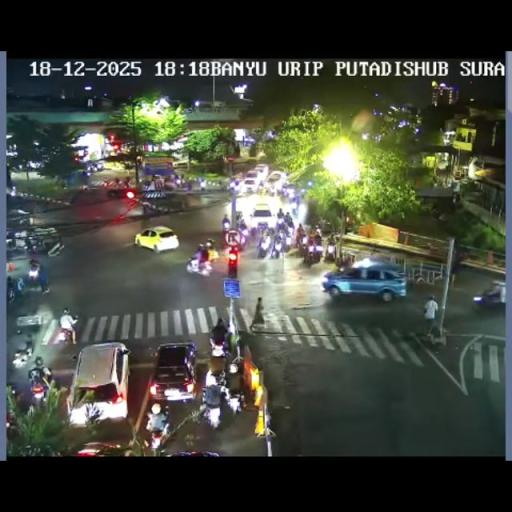Car: (66, 342, 130, 424), (322, 261, 408, 301), (148, 342, 198, 404), (134, 226, 178, 252), (473, 282, 505, 310), (71, 441, 125, 455), (250, 202, 274, 230), (266, 170, 287, 190), (107, 185, 136, 198), (241, 176, 259, 194), (253, 163, 269, 179), (86, 160, 106, 172)
Motorcycle: (144, 404, 170, 448), (199, 394, 224, 429), (28, 373, 49, 407), (203, 365, 227, 392), (186, 252, 212, 276), (226, 387, 244, 416), (55, 321, 76, 345), (11, 343, 32, 367), (209, 335, 229, 360), (6, 394, 18, 432), (304, 240, 321, 266), (230, 226, 248, 248), (336, 251, 354, 270), (271, 232, 284, 258), (258, 230, 271, 256), (27, 266, 40, 287), (323, 242, 336, 260), (142, 200, 156, 216), (25, 237, 37, 254), (290, 200, 300, 218), (283, 230, 293, 248), (6, 284, 15, 303), (154, 202, 168, 214), (295, 230, 304, 248), (228, 182, 239, 196), (276, 216, 286, 231), (249, 222, 258, 238), (6, 237, 16, 251), (142, 178, 152, 192), (227, 362, 238, 374), (326, 232, 336, 245), (452, 192, 461, 206), (284, 218, 294, 230), (256, 182, 266, 194), (222, 222, 230, 236), (314, 224, 322, 238), (206, 238, 215, 250), (235, 210, 243, 223), (267, 185, 276, 196), (174, 174, 181, 188), (287, 187, 295, 199), (199, 180, 206, 191), (186, 180, 193, 191), (102, 178, 110, 187), (300, 187, 306, 198), (124, 176, 130, 187), (114, 177, 120, 187), (218, 180, 222, 189)
